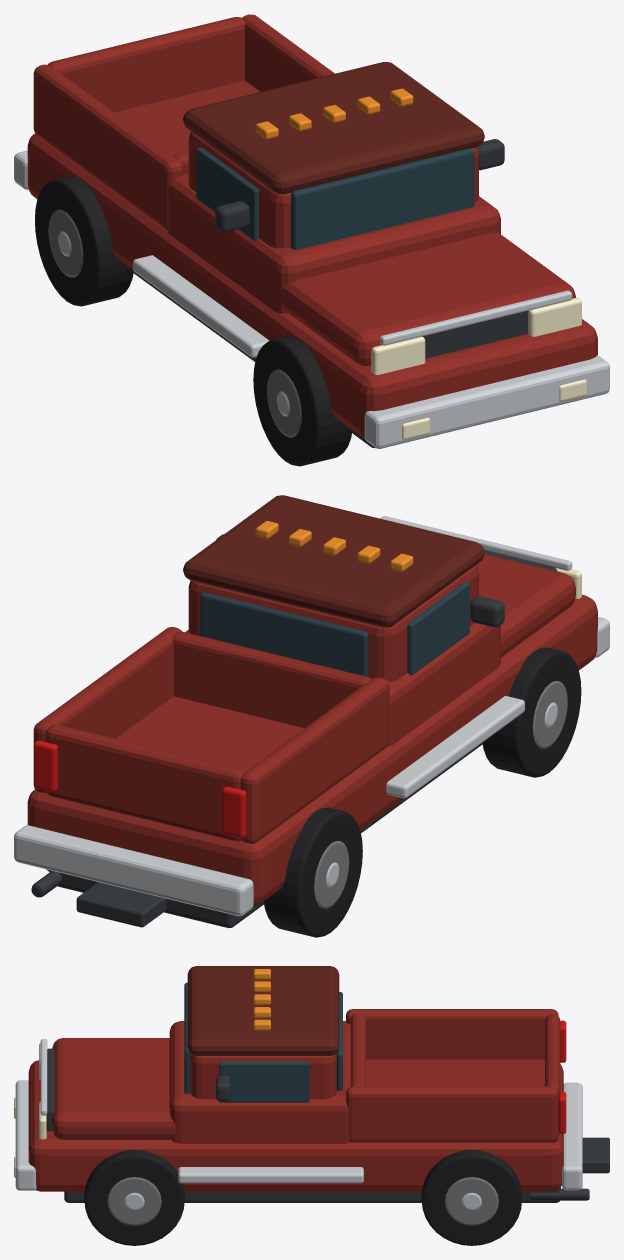
Rendered from pine_creek_pickup.glb.
3 views of the same model, one above another, from view 1: azimuth 30°, elevation 25°; view 2: azimuth 150°, elevation 25°; view 3: azimuth 270°, elevation 25° (orthographic). The views are drawn at different scales.
Visible parts, largest first — view 1: Roof, LowerBody, Hood, CabLower, Windshield, Tailgate, BedLeft, FrontBumper, Wheel_FL_Tire, Wheel_RL_Tire, BedRight, Step_L (+11 smaller); view 2: Roof, LowerBody, Tailgate, BedLeft, BedFront, RearBumper, RearGlass, BedFloor, BedRight, Wheel_RL_Tire, Wheel_FL_Tire, CabLower (+12 smaller); view 3: LowerBody, Roof, BedRight, Hood, CabLower, BedLeft, Wheel_RR_Tire, Wheel_FR_Tire, BedFloor, RightWindow, Frame, Step_R (+13 smaller).
Part boxes in pixels (box(x1,y1,x2,y2)): Roof: box(183, 62, 484, 194); LowerBody: box(27, 134, 597, 438); Hood: box(280, 232, 575, 365); CabLower: box(167, 172, 500, 313); Windshield: box(291, 148, 474, 249); Tailgate: box(47, 17, 245, 112); BedLeft: box(33, 64, 183, 229); FrontBumper: box(364, 355, 609, 448); Wheel_FL_Tire: box(253, 336, 352, 466); Wheel_RL_Tire: box(35, 176, 133, 306); BedRight: box(242, 14, 334, 91); Step_L: box(133, 255, 269, 357); Roof: box(183, 495, 484, 627); LowerBody: box(27, 595, 597, 906); Tailgate: box(45, 724, 244, 841); BedLeft: box(240, 677, 389, 843); BedFront: box(173, 631, 371, 728); RearBumper: box(14, 825, 253, 916); RearGlass: box(200, 592, 368, 676); BedFloor: box(116, 696, 304, 771); BedRight: box(33, 627, 181, 793); Wheel_RL_Tire: box(263, 807, 362, 937); Wheel_FL_Tire: box(482, 647, 581, 777); CabLower: box(185, 623, 500, 746); LowerBody: box(28, 1060, 563, 1191); Roof: box(187, 966, 339, 1055); BedRight: box(346, 1086, 558, 1142); Hood: box(52, 1038, 176, 1139); CabLower: box(169, 1021, 350, 1143); BedLeft: box(346, 1009, 558, 1059); Wheel_RR_Tire: box(421, 1149, 521, 1245); Wheel_FR_Tire: box(84, 1149, 184, 1245); BedFloor: box(366, 1059, 544, 1086); RightWindow: box(219, 1061, 309, 1102); Frame: box(64, 1187, 560, 1202); Step_R: box(178, 1167, 363, 1183).
Size of the model in its own units: 2.32 by 2.03 by 5.46.
